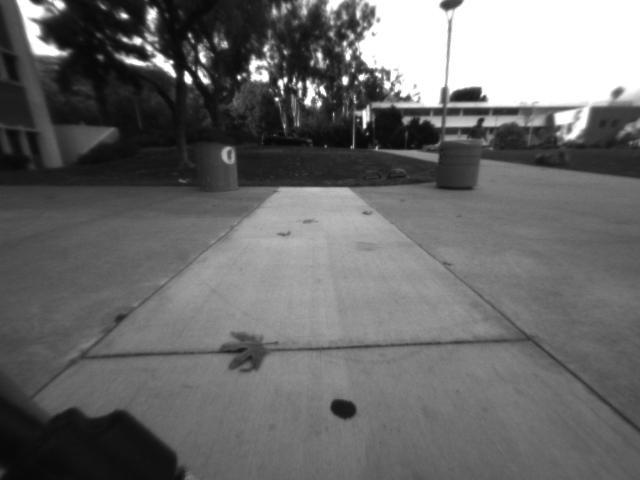trashcan: (186, 128, 244, 196), (434, 132, 484, 200)
